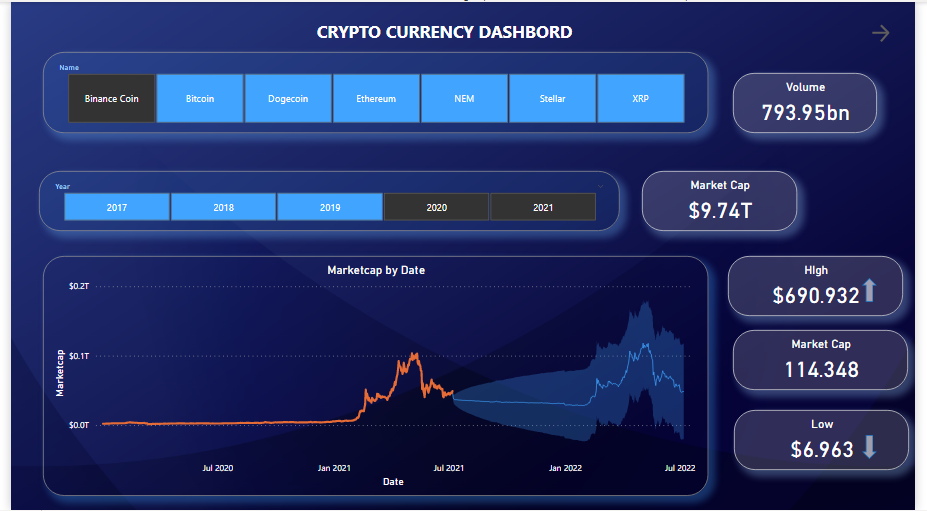

This screenshot's page, from the dashboard's own definition file:
{"tool":"powerbi","page":{"name":"Page 1","canvas":[1280,720],"ordinal":0},"visuals":[{"type":"slicer","fields":{"Values":["CryptoData.Name"]},"box":[45.4,70.9,942.5,114.8],"z":0},{"type":"slicer","fields":{"Values":["CryptoData.Year"]},"box":[39.7,239.5,823.5,85],"z":1000},{"type":"lineChart","fields":{"Y":["Sum(CryptoData.Marketcap)"],"Category":["CryptoData.Date"]},"box":[45.4,360,942.5,340.2],"z":2000},{"type":"actionButton","box":[1206.1,18.4,73.7,52.4],"z":3000},{"type":"textbox","box":[365.7,19.8,497.5,51],"z":4000},{"type":"card","title":"Market Cap","fields":{"Values":["Sum(CryptoData.Marketcap)"]},"box":[894.3,239.5,219.7,85],"z":5000},{"type":"card","title":"Volume","fields":{"Values":["Sum(CryptoData.Volume)"]},"box":[1023.3,100.6,204.1,85],"z":6000},{"type":"card","title":"HIgh","fields":{"Values":["Max(CryptoData.High)"]},"box":[1016.2,360,248,85],"z":7000},{"type":"card","title":"Market Cap","fields":{"Values":["Avg(CryptoData.Average)"]},"box":[1023.3,464.9,248,85],"z":8000},{"type":"card","title":"Low","fields":{"Values":["Min(CryptoData.Low)"]},"box":[1024.7,578.3,248,85],"z":9000},{"type":"shape","box":[1206.1,391.2,21.3,34],"z":10000},{"type":"shape","box":[1206.1,613.7,21.3,34],"z":11000}]}

Visuals, with their boxes in screenshot pixels (x1, y1, x2, y2), scaled from the page's 1280x720 canvas onto the 927x511 screenshot:
slicer - CryptoData.Name: 33/50/715/132
slicer - CryptoData.Year: 29/170/625/230
lineChart - Sum(CryptoData.Marketcap) x CryptoData.Date: 33/256/715/497
actionButton: 873/13/926/50
textbox: 265/14/625/50
"Market Cap" card: 648/170/807/230
"Volume" card: 741/71/889/132
"HIgh" card: 736/256/916/316
"Market Cap" card: 741/330/921/390
"Low" card: 742/410/922/471
shape: 873/278/889/302
shape: 873/436/889/460
